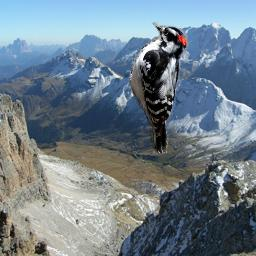Woodpecker: (128, 22, 190, 153)
